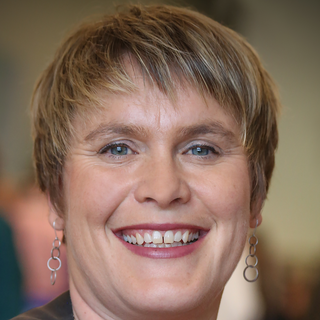eye: (94, 139, 143, 164), (175, 139, 224, 164)
